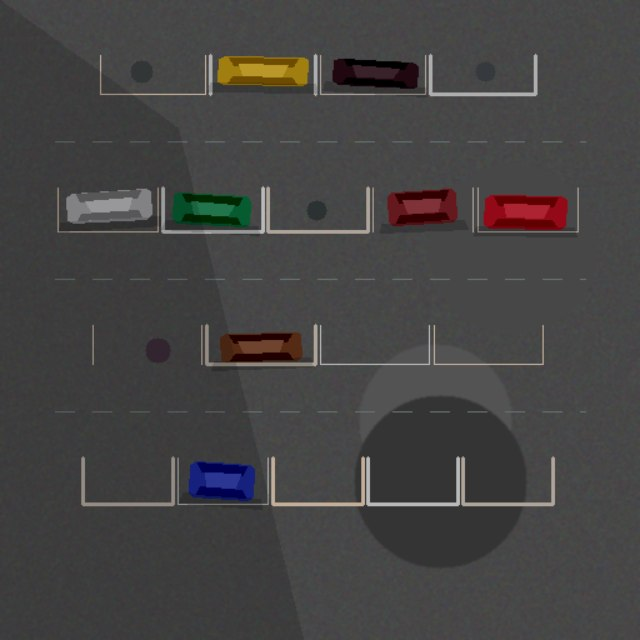space-empty: (268, 187, 368, 231), (92, 325, 201, 364), (320, 325, 429, 364), (434, 325, 542, 364), (83, 458, 173, 504), (273, 458, 363, 504), (367, 458, 457, 504), (463, 458, 553, 504), (100, 55, 205, 94), (430, 55, 535, 94)
space-occupied: (58, 187, 158, 231), (162, 187, 262, 231), (372, 187, 472, 231), (478, 187, 578, 231), (206, 325, 315, 364), (177, 458, 267, 504), (210, 55, 315, 94), (320, 55, 425, 94)
